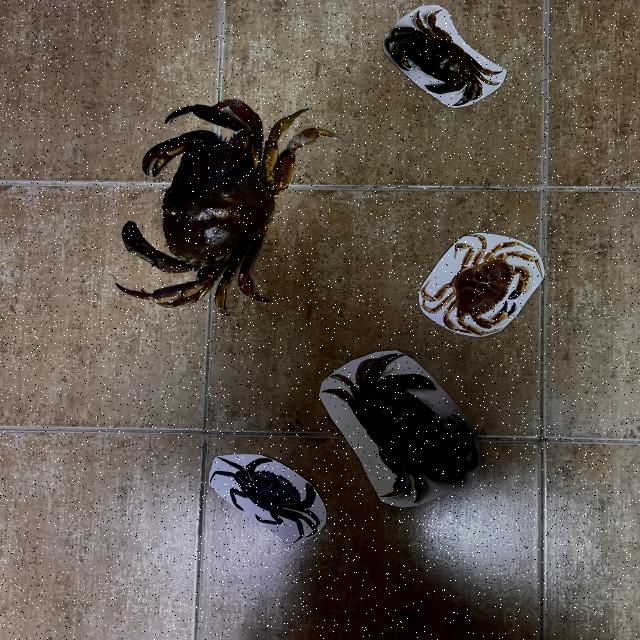European_Green_Crab: (192, 437, 346, 549)
